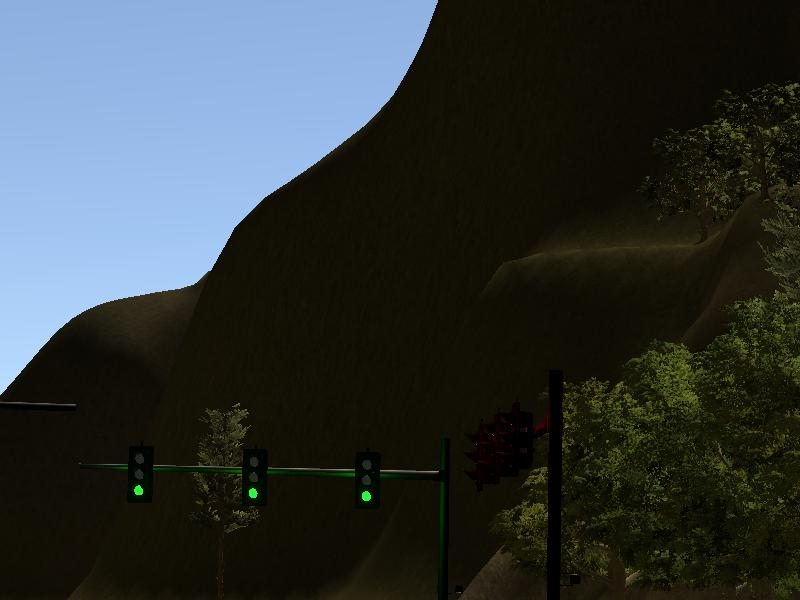Green: (241, 448, 268, 506), (126, 445, 153, 501), (354, 452, 380, 510)
